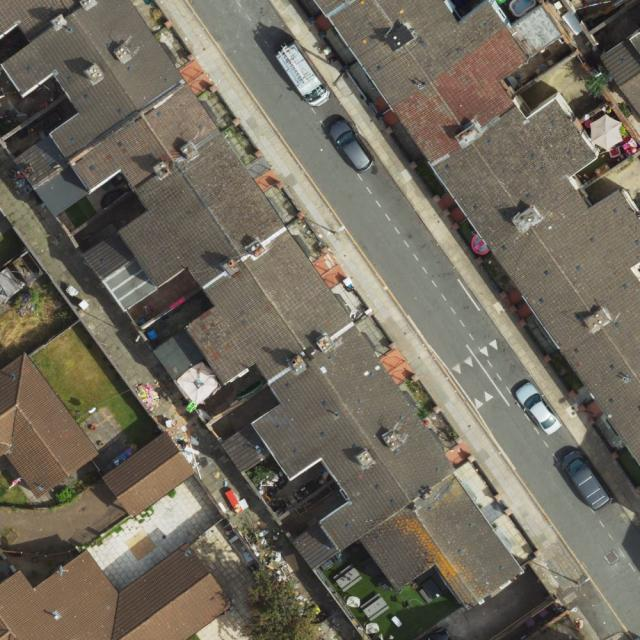roof: (1, 0, 523, 610), (315, 1, 640, 467), (0, 542, 235, 640), (0, 355, 100, 500), (102, 429, 195, 520), (600, 32, 640, 115)
